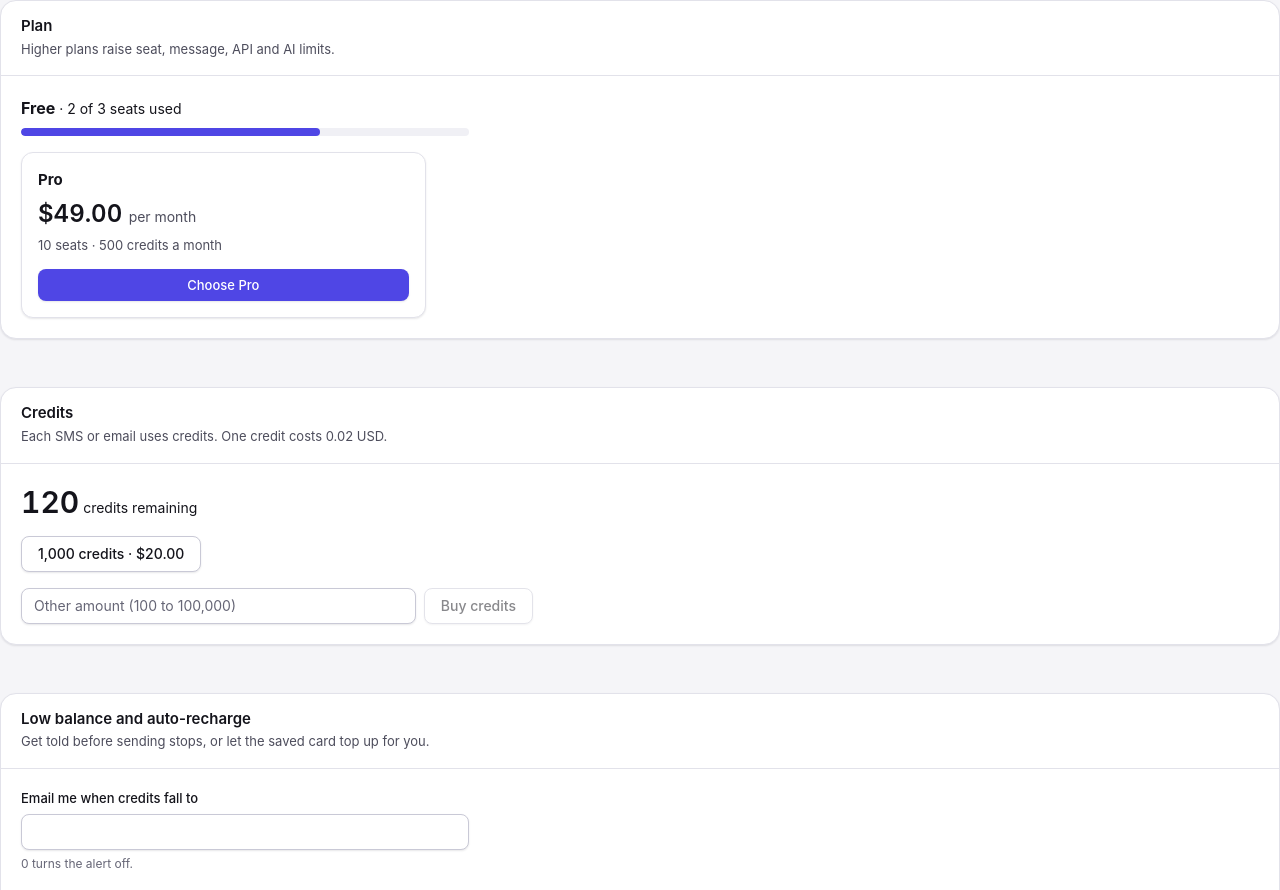
Test: BillingSettings › only offers a custom amount inside the allowed range
Expected: the text "Free · 2 of 3 seats used" is shown, [21,98,182,118]
Expected: the button "Buy credits" is disabled, [424,588,533,624]
Type "50" into the number field named "custom number of credits" at point(218, 606), box [21,588,416,624]
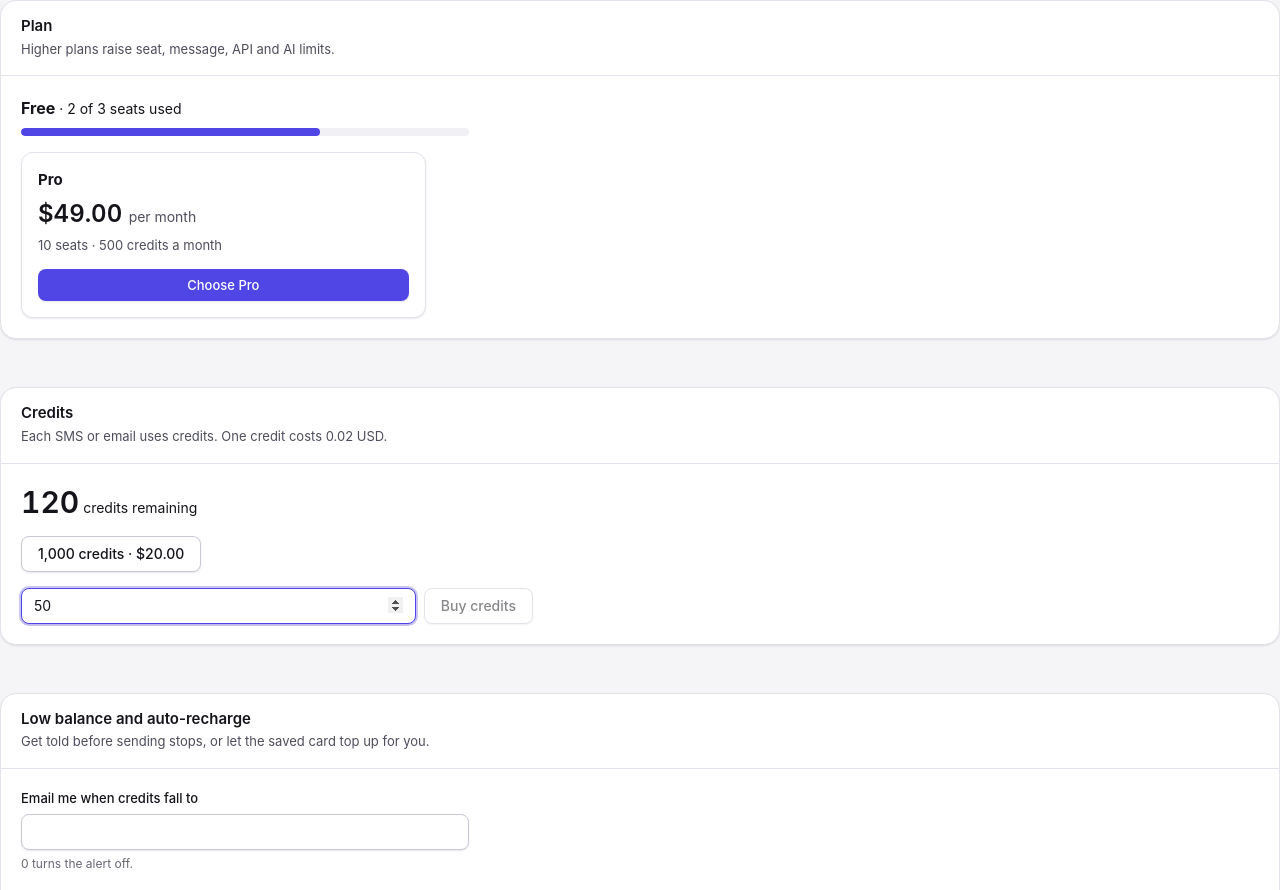
Expected: the button "Buy credits" is disabled, [424,588,533,624]
Replace the text in the number field named "custom number of credits" with "2500" at point(218, 606), box [21,588,416,624]
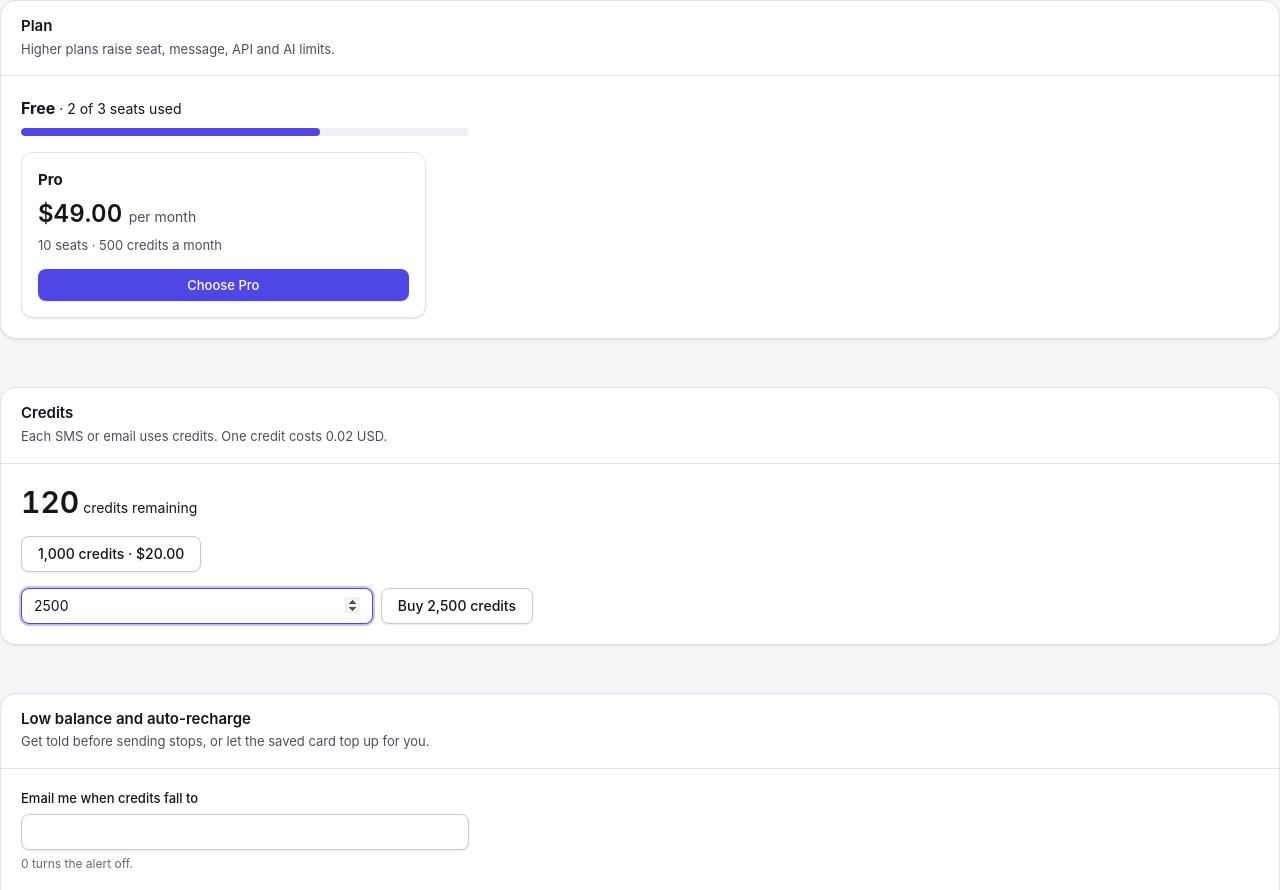
Now the button "Buy 2,500 credits" is enabled, box [381,588,533,624]
